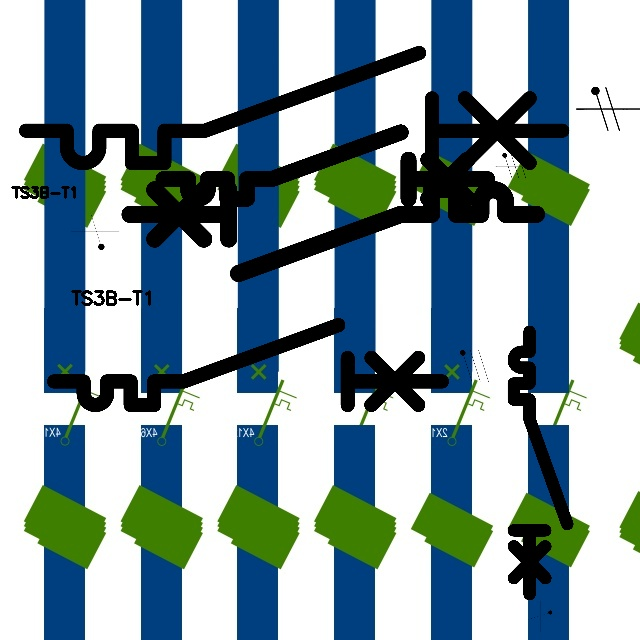interruptor_termomagnetico: (12, 39, 576, 177), (119, 179, 547, 283), (44, 315, 452, 415), (155, 124, 495, 207), (507, 325, 574, 601)
